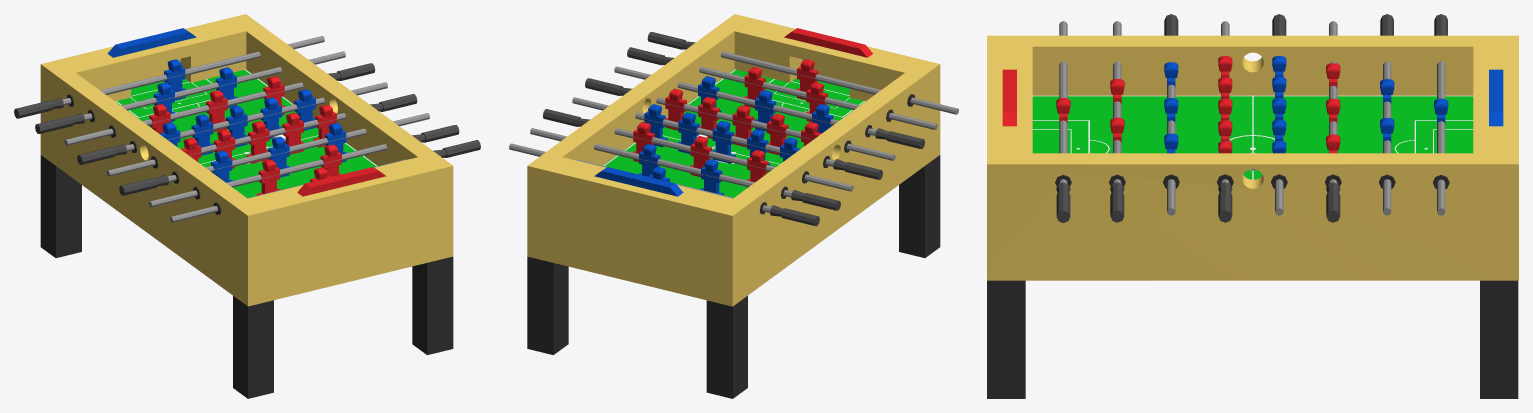
The model's file is MesaFutbol.fbx.
The picture shows the model from 3 angles, left to right: view 1: azimuth 30°, elevation 25°; view 2: azimuth 150°, elevation 25°; view 3: azimuth 270°, elevation 25°; orthographic projection. The views are drawn at different scales.
Visible parts, largest first — view 1: MesaFutbol; view 2: MesaFutbol; view 3: MesaFutbol.
Part boxes in pixels (<box>): MesaFutbol: <box>14,14,480,398</box>; MesaFutbol: <box>509,14,958,398</box>; MesaFutbol: <box>987,14,1518,398</box>.
Bounding box in the file's own units: 133 × 76.65 × 151.
